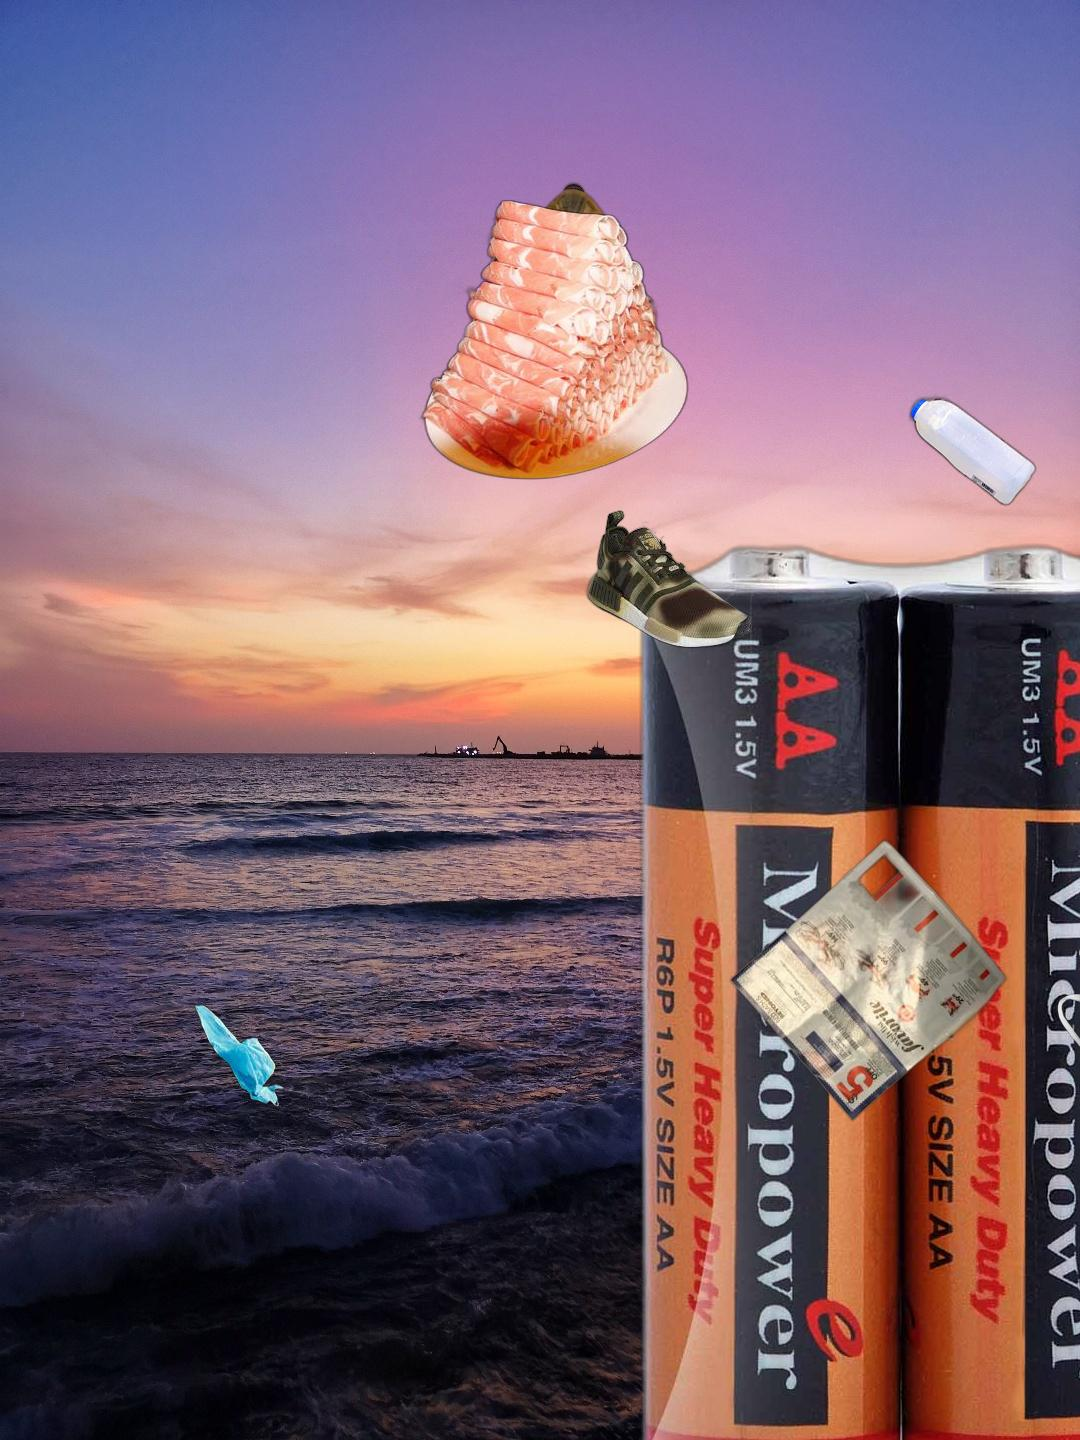battery: (630, 536, 1080, 1440)
biological: (415, 196, 693, 483)
paper: (726, 837, 1009, 1124)
plastic-bag: (192, 1002, 288, 1110)
plastic-bottles: (649, 391, 1040, 897), (509, 178, 628, 395)
shoes: (581, 508, 753, 651)
trash: (1055, 921, 1080, 1098)
